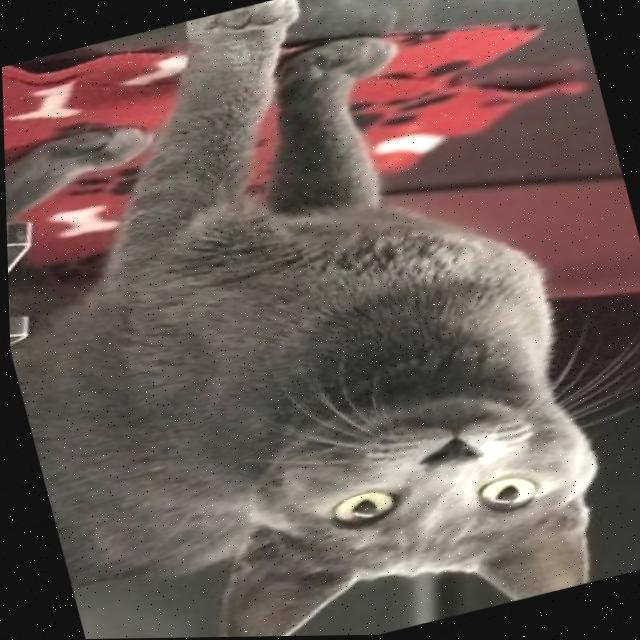Russian Blue: (0, 0, 626, 640)
